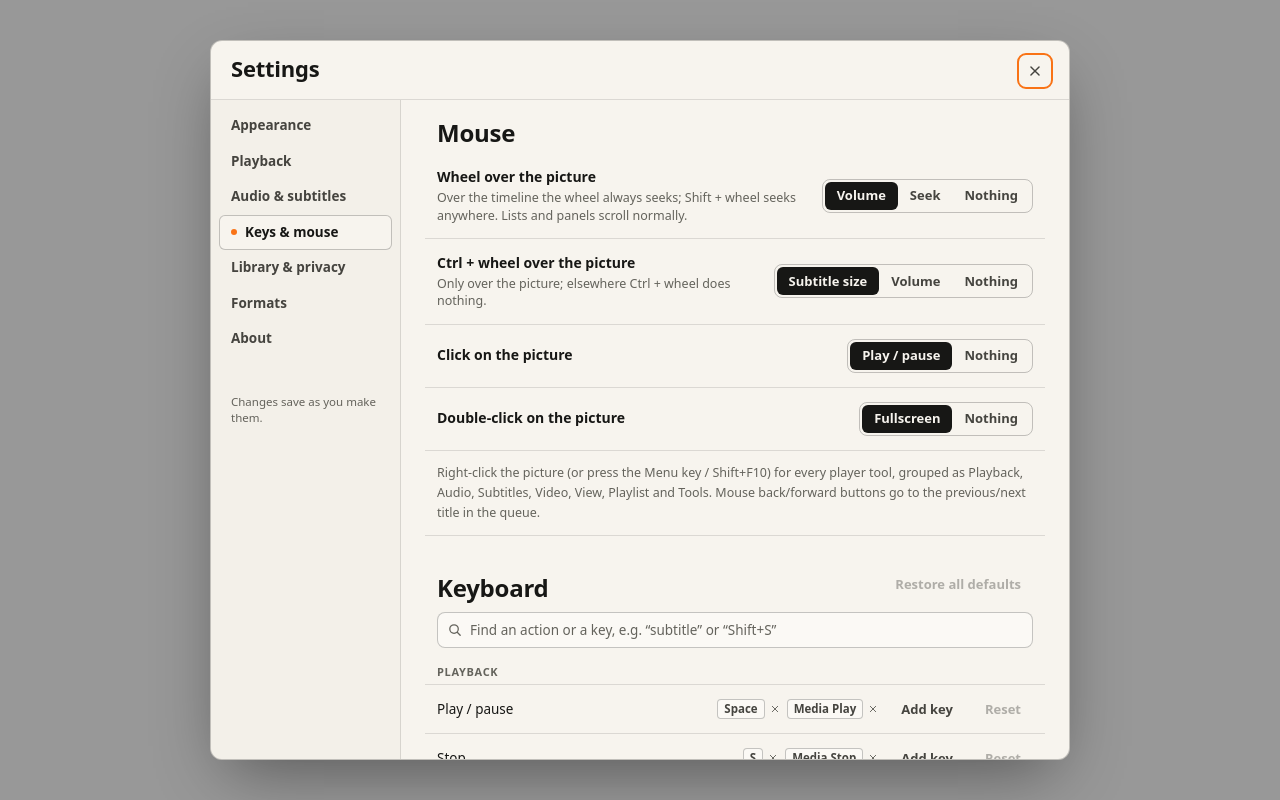
Test: Settings › Keys & mouse › finds actions by name or by key
Expected: the list item "Play / pause Space Media Play Add key Reset" is shown, [425,685,1045,734]
In the search field named "Find an action or key": [735, 630] box [437,612,1033,648], type "subtitle"
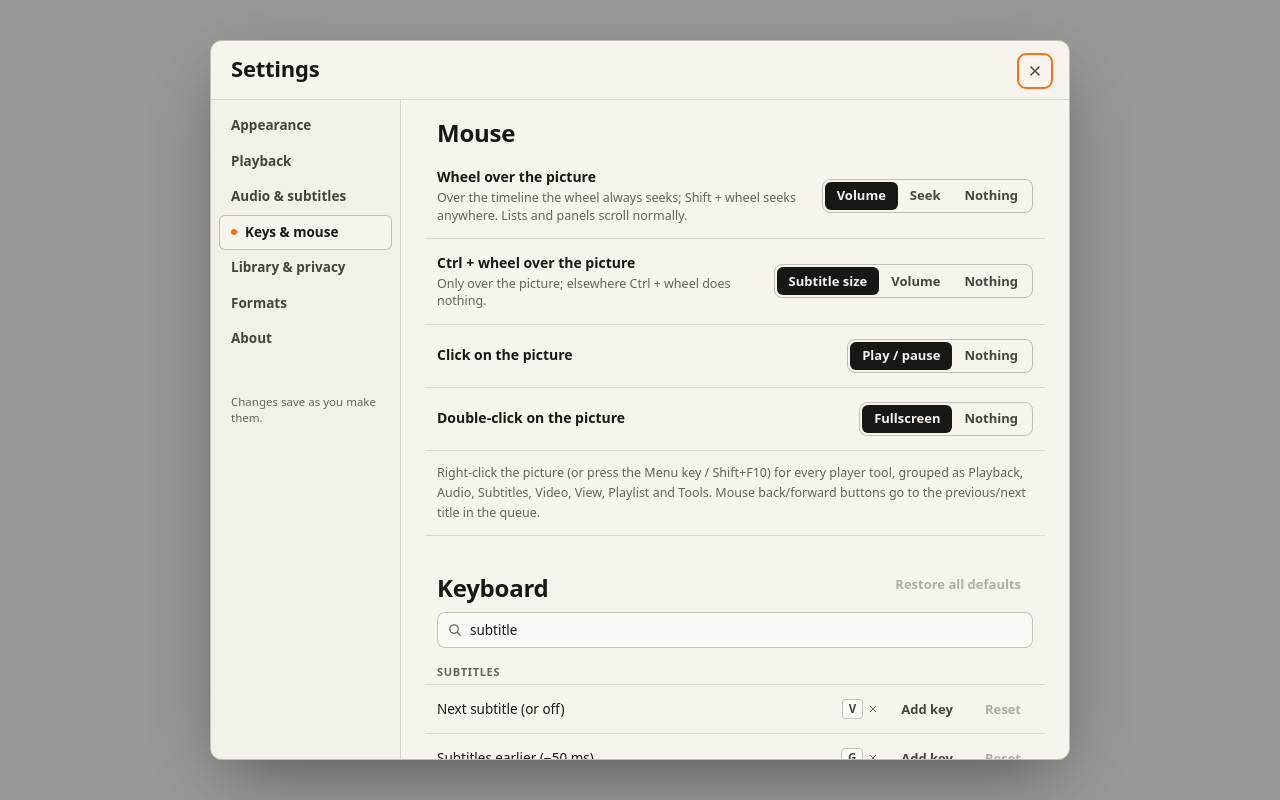
Replace the text in the search field named "Find an action or key" with "shift+s": [735, 630] box [437,612,1033,648]
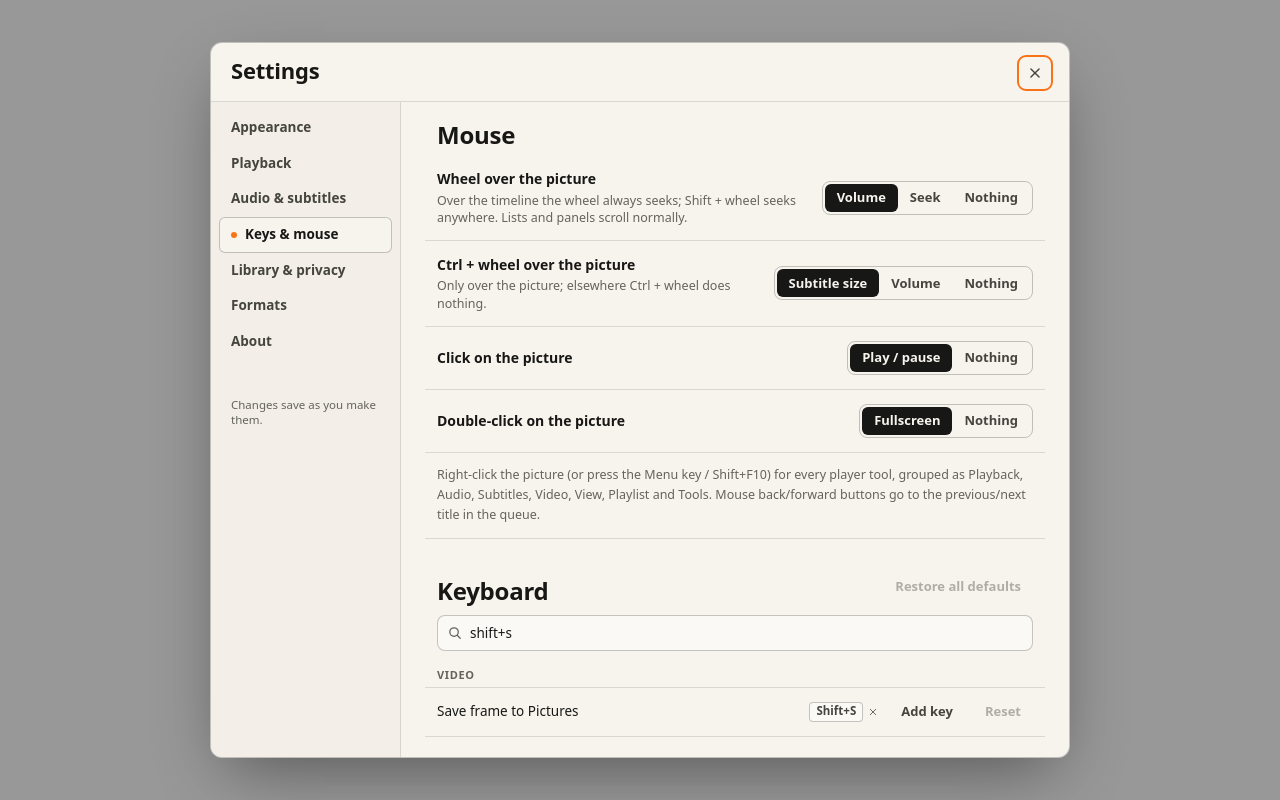
Now the list item is shown, box [425,688,1045,737]
Replace the text in the search field named "Find an action or key" with "zzz": [735, 633] box [437,615,1033,651]
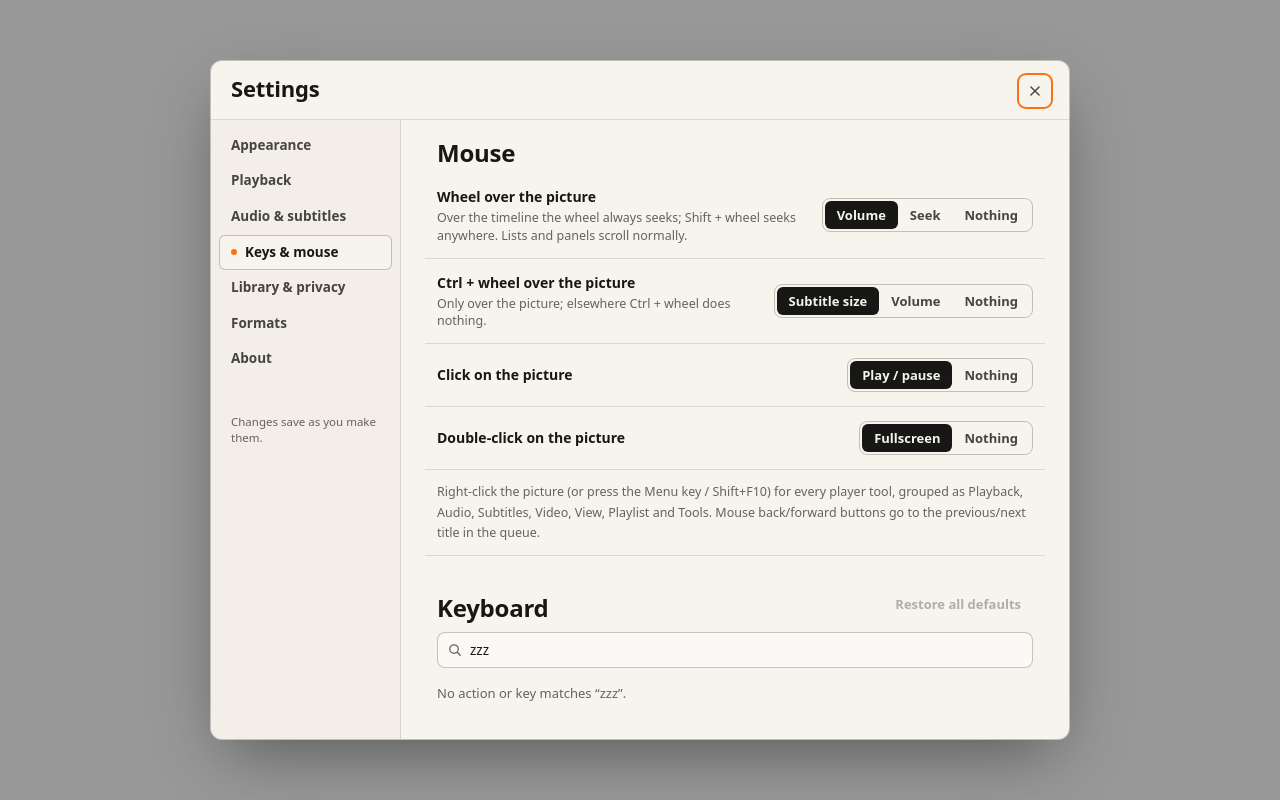
Now the text "No action or key matches “zzz”." is shown, box [437,684,626,702]
